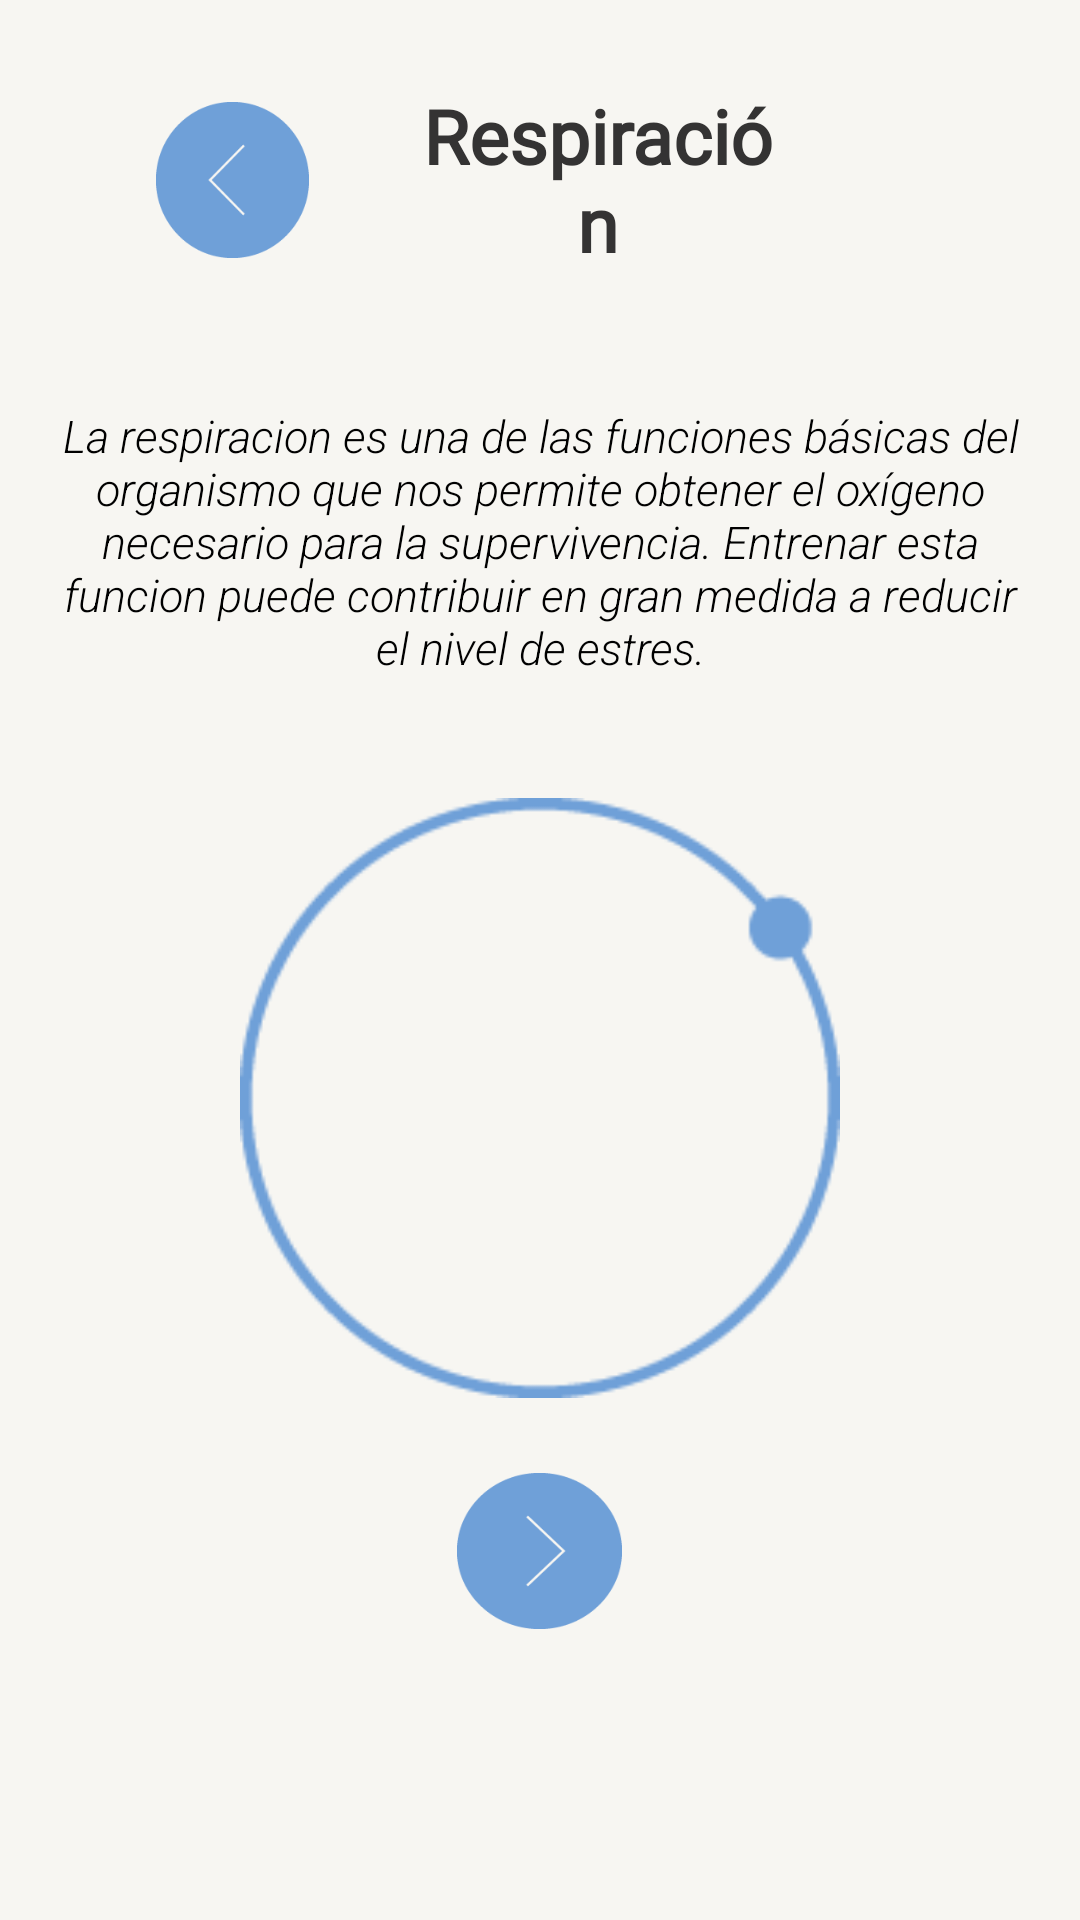

Screen size 1080w x 1920h. Icon name, then its center in pixels as point (x, y):
avanzar xxxdpi: point (539, 1551)
regresar xxxdpi: point (232, 180)
